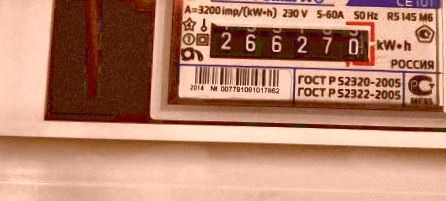0: (345, 35, 360, 56)
2: (218, 29, 232, 51), (295, 34, 309, 54)
6: (243, 31, 256, 52), (269, 33, 283, 52)
7: (321, 35, 332, 54)
screen: (197, 12, 382, 72)
